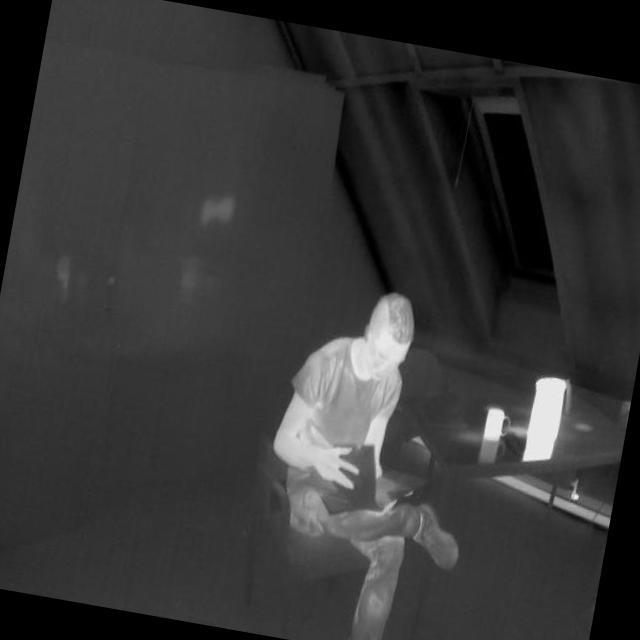person: (235, 264, 507, 640)
